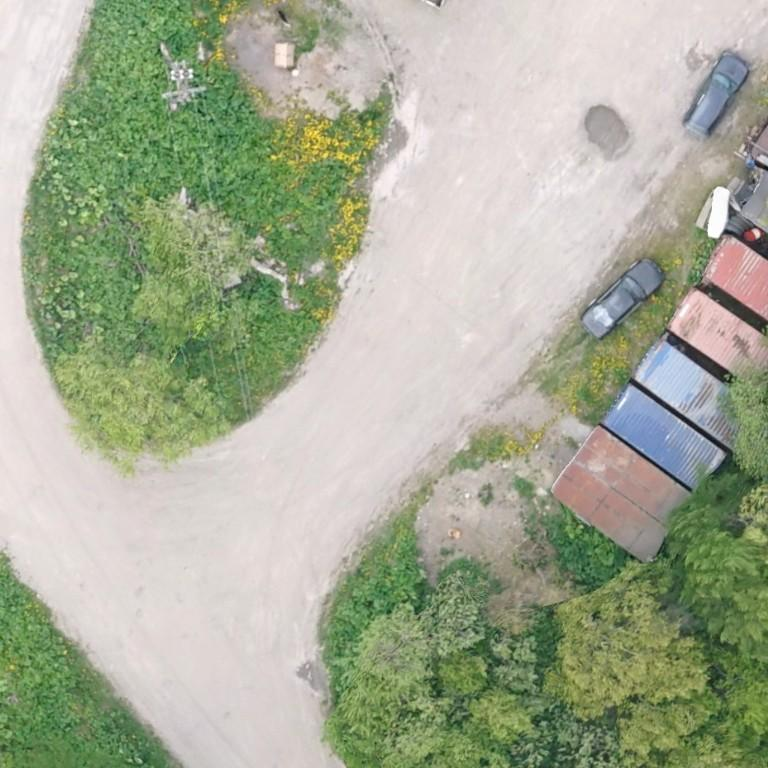hogweed: (197, 65, 346, 265), (0, 568, 128, 750), (329, 542, 423, 661), (244, 277, 312, 353), (549, 522, 614, 582), (173, 104, 208, 200)
